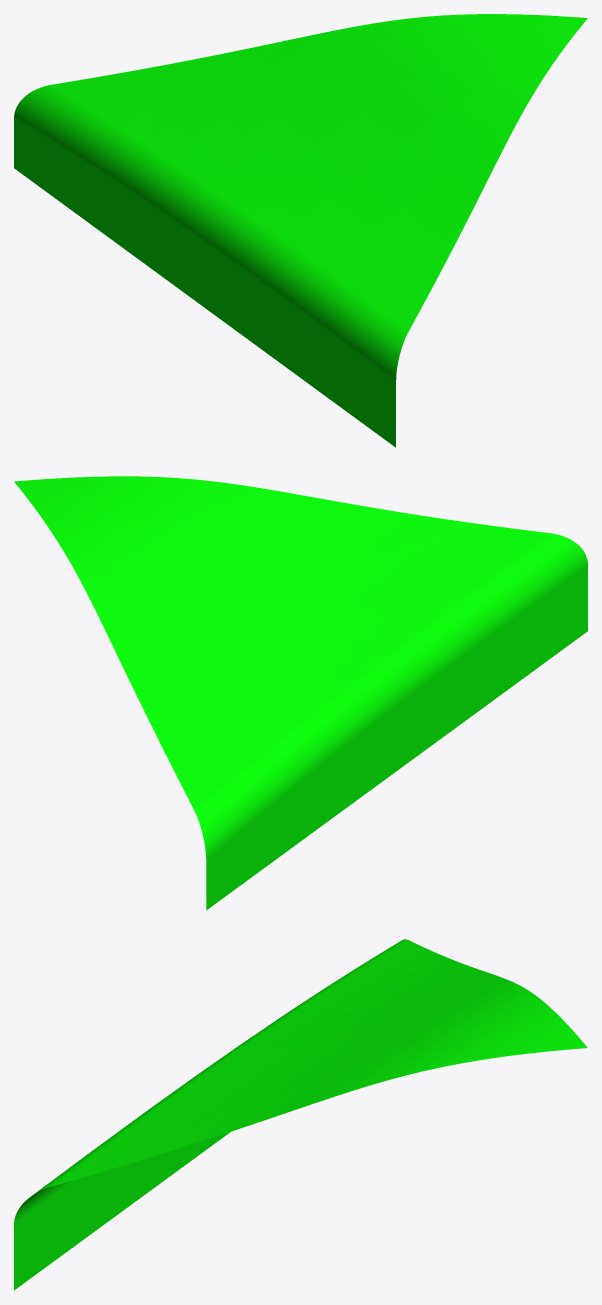
File: TS_F_A_right_pad_1_visuals.obj
3 views of the same model, one above another, from view 1: azimuth 30°, elevation 25°; view 2: azimuth 150°, elevation 25°; view 3: azimuth 330°, elevation 25° (orthographic).
Bounding box in the file's own units: 0.0055 × 0.00269 × 0.0095.
